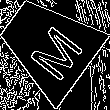M_NW: (15, 12, 80, 78)
